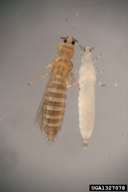Thrips: (44, 26, 72, 147), (77, 35, 103, 150)
